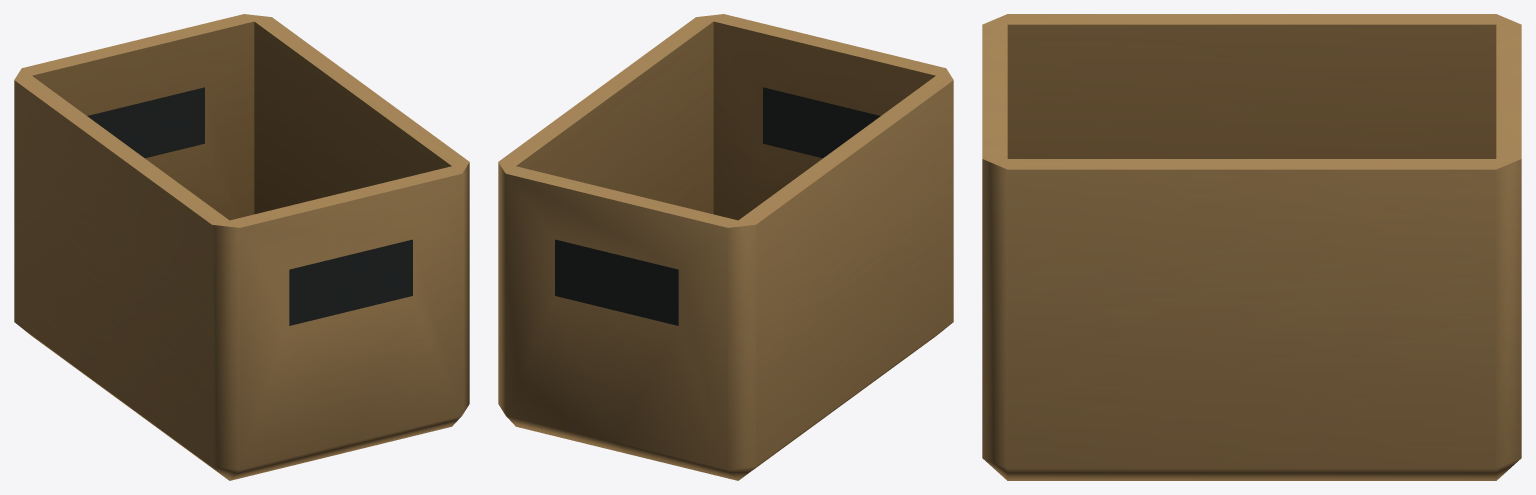
Rendered from box_cardboard_rectangle_open_handle.fbx.
3 renders of one model, left to right at view 1: azimuth 30°, elevation 25°; view 2: azimuth 150°, elevation 25°; view 3: azimuth 270°, elevation 25°, orthographic. The views are drawn at different scales.
Visible parts, largest first — view 1: box_cardboard_rectangle_open_handle; view 2: box_cardboard_rectangle_open_handle; view 3: box_cardboard_rectangle_open_handle.
Part boxes in pixels (left/top/right/bottom): box_cardboard_rectangle_open_handle: left=14, top=14, right=469, bottom=480; box_cardboard_rectangle_open_handle: left=498, top=14, right=953, bottom=480; box_cardboard_rectangle_open_handle: left=982, top=14, right=1521, bottom=480.
Bounding box in the file's own units: 53.69 × 51.84 × 78.69.
